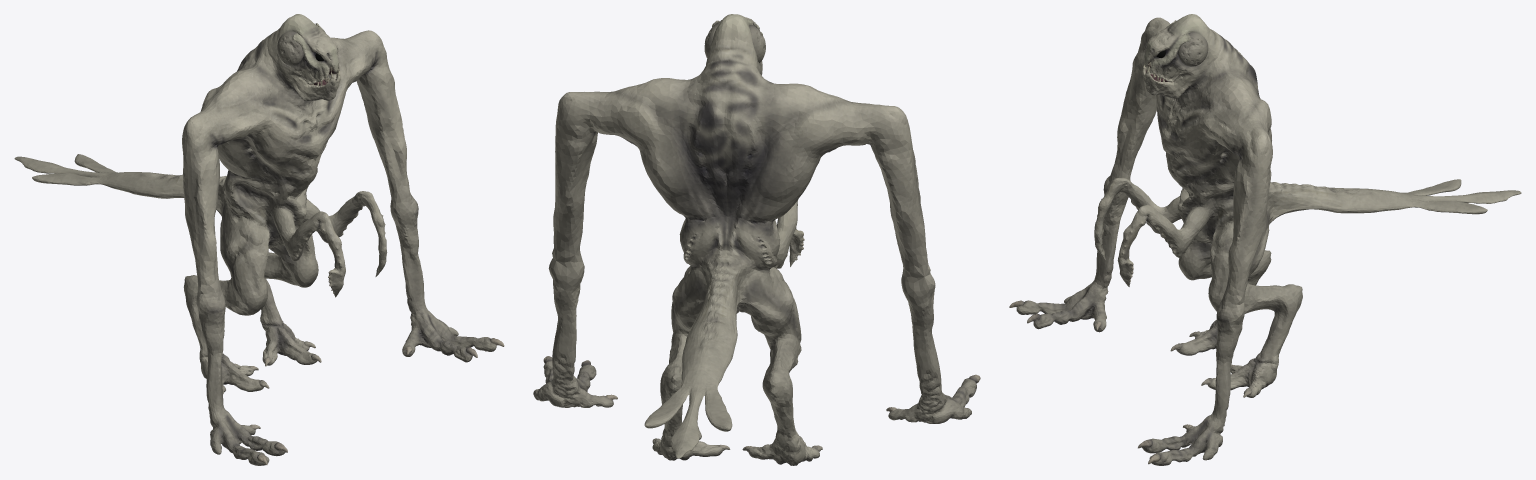
The model's file is cloverfield.fbx.
3 renders of one model, left to right at view 1: azimuth 30°, elevation 25°; view 2: azimuth 150°, elevation 25°; view 3: azimuth 270°, elevation 25°, orthographic. The views are drawn at different scales.
Parts seen in each view (by area): view 1: GLTF_created_1; view 2: GLTF_created_1; view 3: GLTF_created_1.
Boxes of the visible parts, x1,y1,x2,y2 form: GLTF_created_1: (14, 14, 504, 465); GLTF_created_1: (533, 14, 980, 465); GLTF_created_1: (1009, 14, 1521, 465).
Bounding box in the file's own units: 1.04e+07 × 1.4e+07 × 1.11e+07.
Materials: 6 (6 with a texture image).
